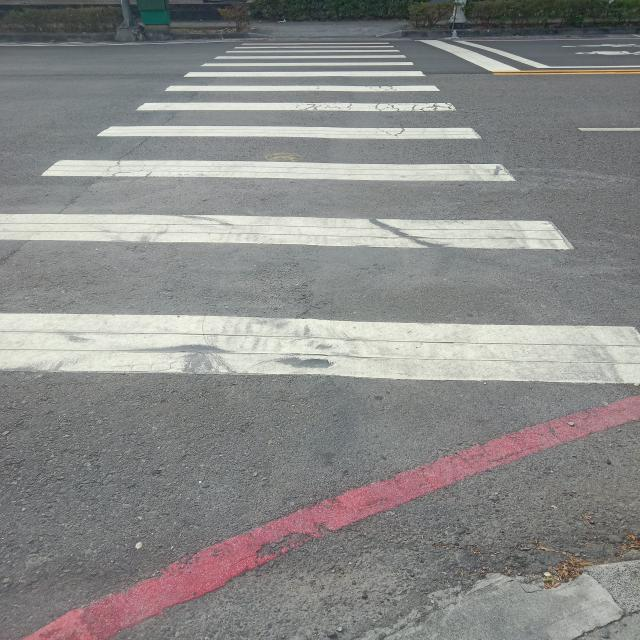zebra crossing: (4, 42, 633, 381)
